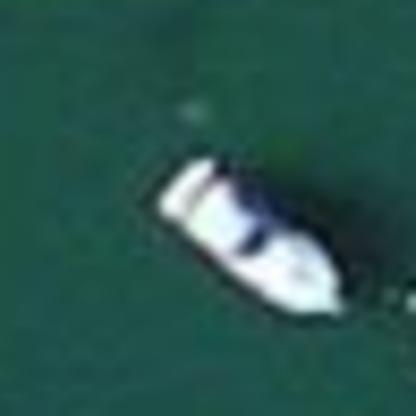ship: (131, 147, 363, 333)
